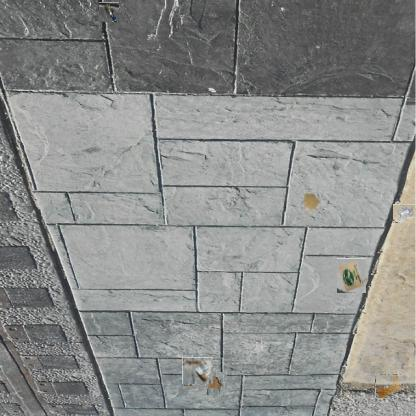dirty: (335, 259, 368, 292), (183, 356, 212, 385), (205, 372, 227, 394), (394, 202, 416, 223), (100, 2, 119, 22)
liquid: (375, 374, 401, 398), (300, 193, 322, 213)
